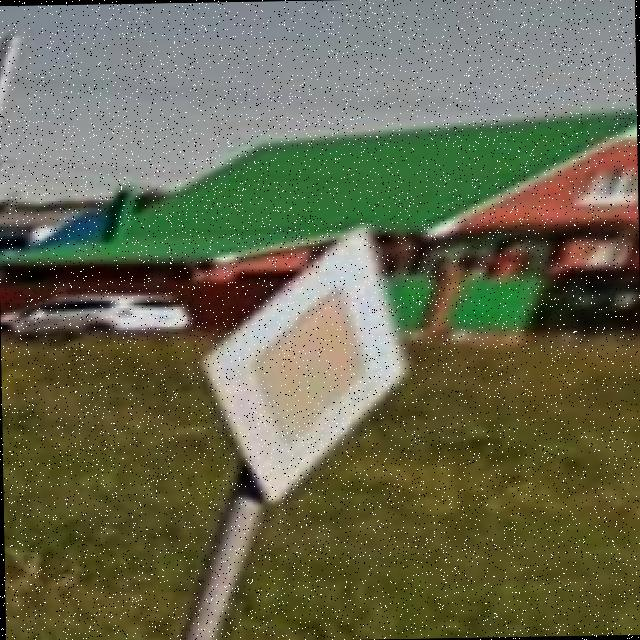Droga z pierwszenstwem: (198, 222, 416, 504)
